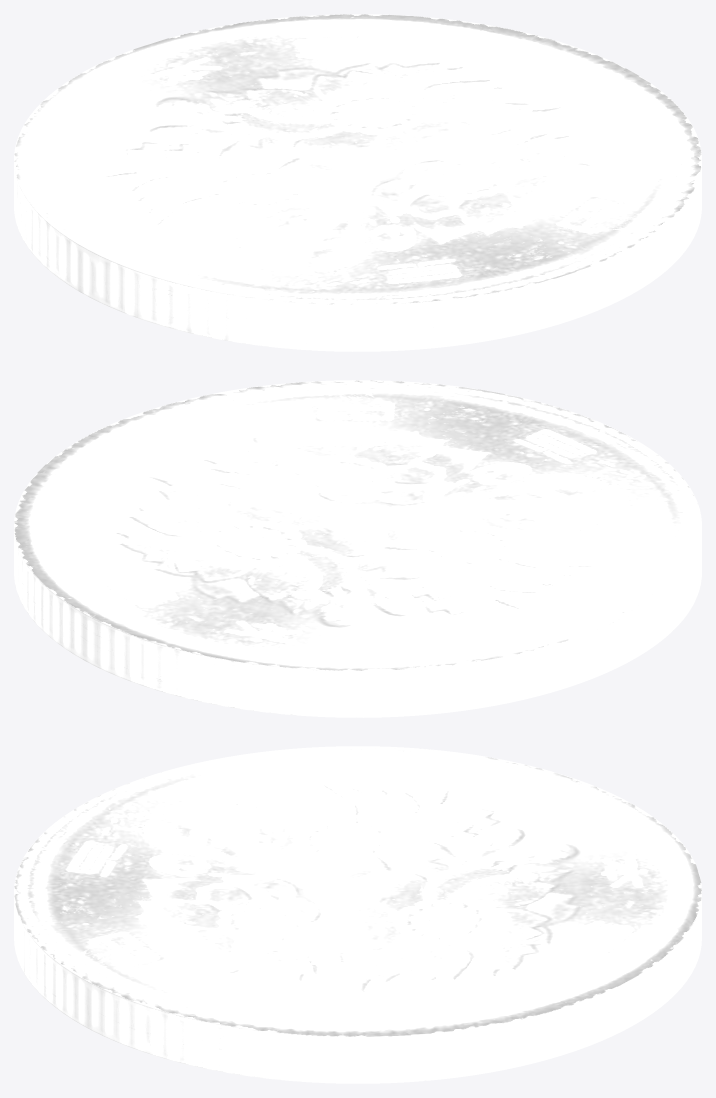
Rendered from 100yen_002.glb.
3 renders of one model, top to bottom at view 1: azimuth 30°, elevation 25°; view 2: azimuth 150°, elevation 25°; view 3: azimuth 270°, elevation 25°, orthographic.
Visible parts, largest first — view 1: 100yen; view 2: 100yen; view 3: 100yen.
Boxes of the visible parts, box(x1,y1,x2,y2) form: 100yen: box(14, 14, 701, 351); 100yen: box(14, 380, 701, 717); 100yen: box(14, 746, 701, 1083).
Bounding box in the file's own units: 0.311 × 0.0234 × 0.311.
1 material, 1 textured.
